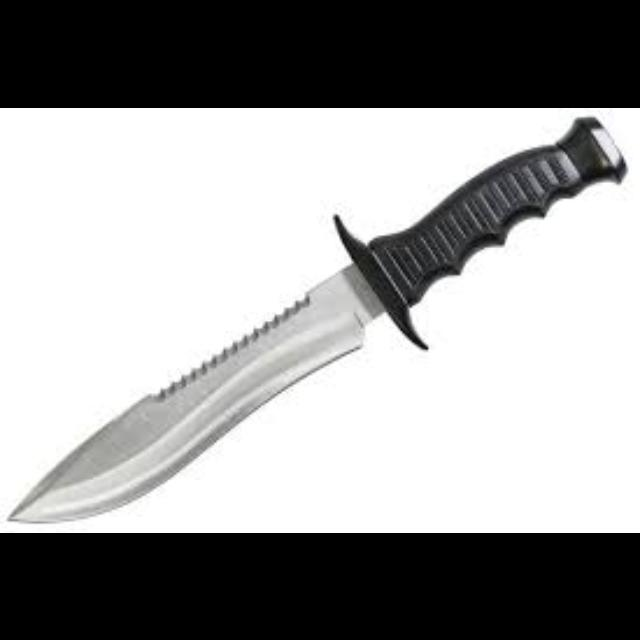Knife: (4, 112, 626, 524)
